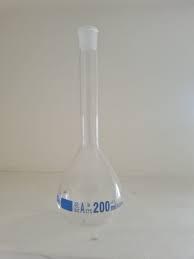Volumetric flask: (43, 26, 132, 226)
